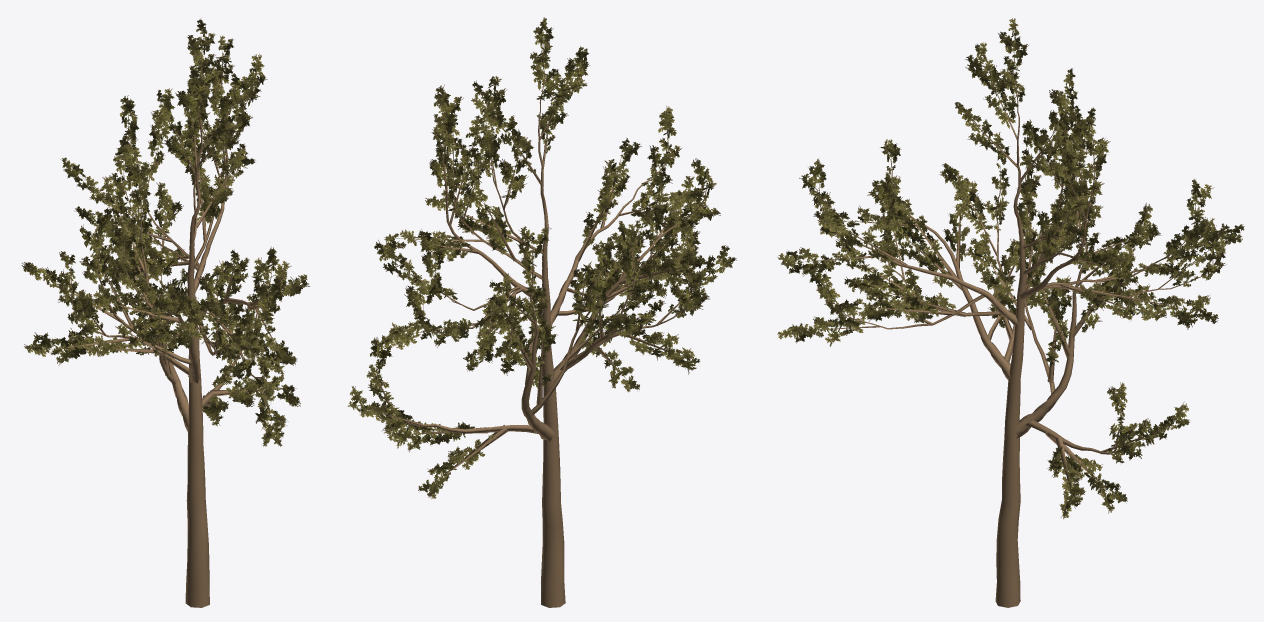
File: blossom-lod0.glb
The picture shows the model from 3 angles, left to right: view 1: azimuth 30°, elevation 25°; view 2: azimuth 150°, elevation 25°; view 3: azimuth 270°, elevation 25°; orthographic projection.
Visible parts, largest first — view 1: leaf cards, branches; view 2: leaf cards, branches; view 3: leaf cards, branches.
Boxes of the visible parts, <box> form: leaf cards: <box>21,18,309,446</box>; branches: <box>49,36,297,607</box>; leaf cards: <box>347,17,736,499</box>; branches: <box>366,36,717,607</box>; leaf cards: <box>777,18,1244,519</box>; branches: <box>802,37,1213,607</box>.
Size of the model in its own units: 2.73 by 5 by 3.68.
Materials: 2 (1 with a texture image).
